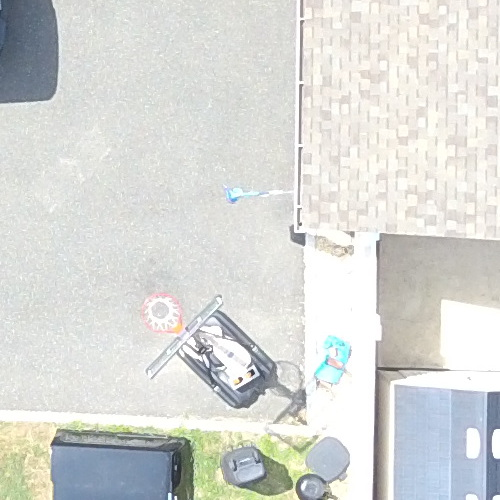basketball: (112, 287, 305, 429)
trash bin: (214, 435, 282, 497), (301, 429, 355, 483)
